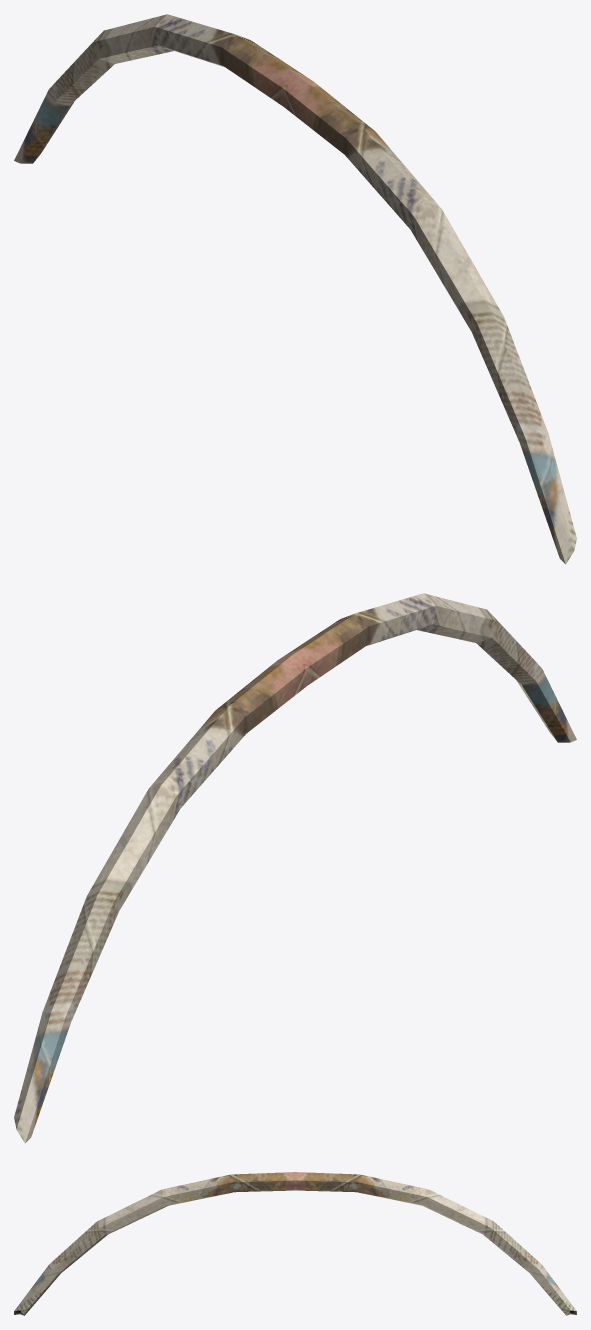
Rendered from Chameleon_paperBow.obj.
3 renders of one model, top to bottom at view 1: azimuth 30°, elevation 25°; view 2: azimuth 150°, elevation 25°; view 3: azimuth 270°, elevation 25°, orthographic. The views are drawn at different scales.
Visible parts, largest first — view 1: Chameleon_paperBow_tri; view 2: Chameleon_paperBow_tri; view 3: Chameleon_paperBow_tri.
Part boxes in pixels (bbox=[...]): Chameleon_paperBow_tri: bbox=[14, 14, 576, 564]; Chameleon_paperBow_tri: bbox=[14, 593, 576, 1143]; Chameleon_paperBow_tri: bbox=[14, 1172, 576, 1315].
Bounding box in the file's own units: 0.0393 × 0.3568 × 1.25.
1 material, 1 textured.
